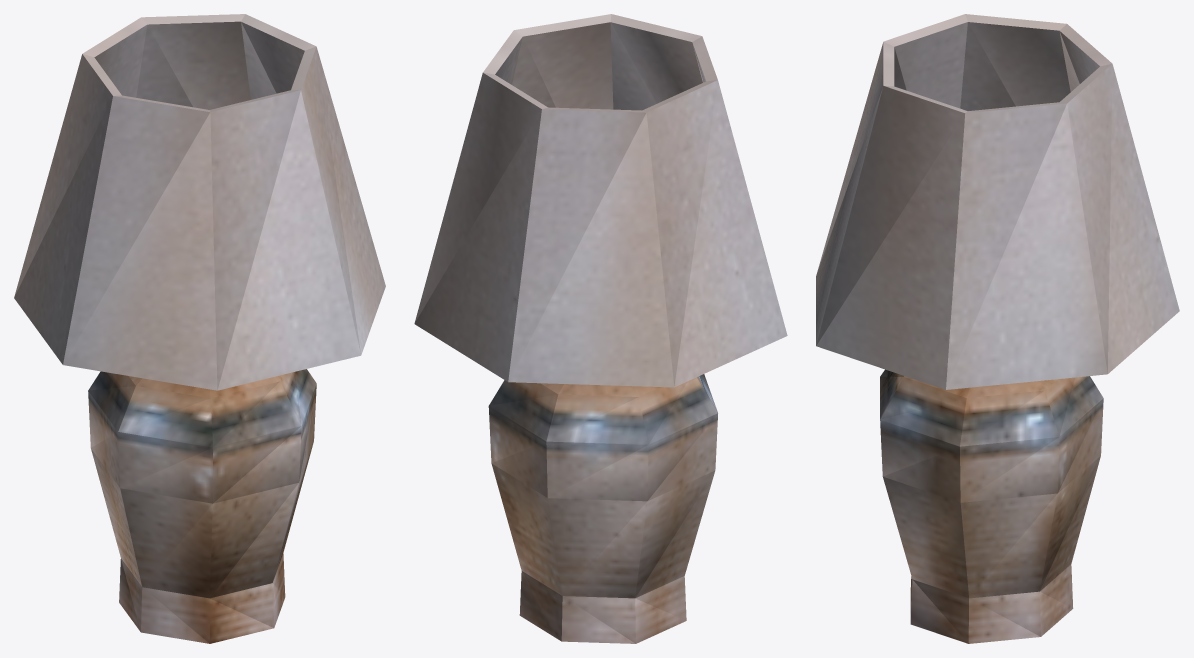
The model's file is luminaria.glb.
The picture shows the model from 3 angles, left to right: view 1: azimuth 30°, elevation 25°; view 2: azimuth 150°, elevation 25°; view 3: azimuth 270°, elevation 25°; orthographic projection.
Visible parts, largest first — view 1: luminaria; view 2: luminaria; view 3: luminaria.
Boxes of the visible parts, bbox=[...] form: luminaria: bbox=[14, 14, 385, 643]; luminaria: bbox=[414, 14, 787, 643]; luminaria: bbox=[816, 14, 1179, 643].
Bounding box in the file's own units: 0.2791 × 0.45 × 0.2722.
1 material, 1 textured.
